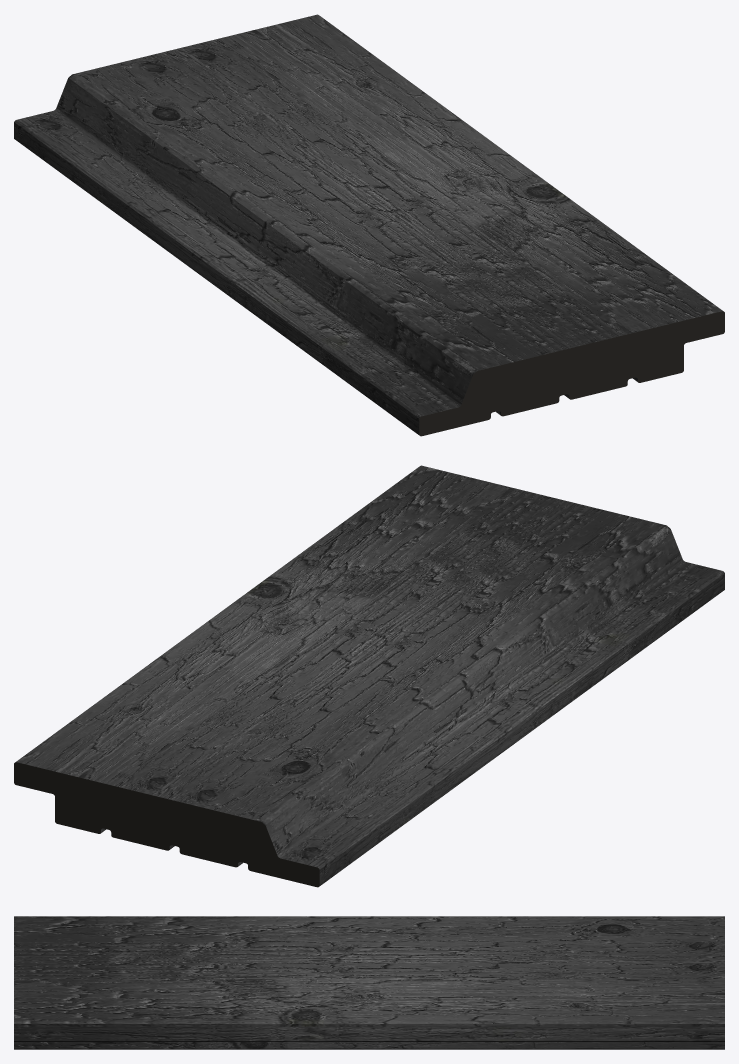
The model's file is spruce-facade-half-tenon-carbon.glb.
The picture shows the model from 3 angles, top to bottom: view 1: azimuth 30°, elevation 25°; view 2: azimuth 150°, elevation 25°; view 3: azimuth 270°, elevation 25°; orthographic projection. The views are drawn at different scales.
Parts seen in each view (by area): view 1: Pusė_Špunto; view 2: Pusė_Špunto; view 3: Pusė_Špunto.
Part boxes in pixels (x1,y1,x2,y2): Pusė_Špunto: (14,14,724,436); Pusė_Špunto: (14,465,724,887); Pusė_Špunto: (14,916,724,1049).
Bounding box in the file's own units: 0.0723 × 0.0117 × 0.166.
3 materials, 1 textured.
